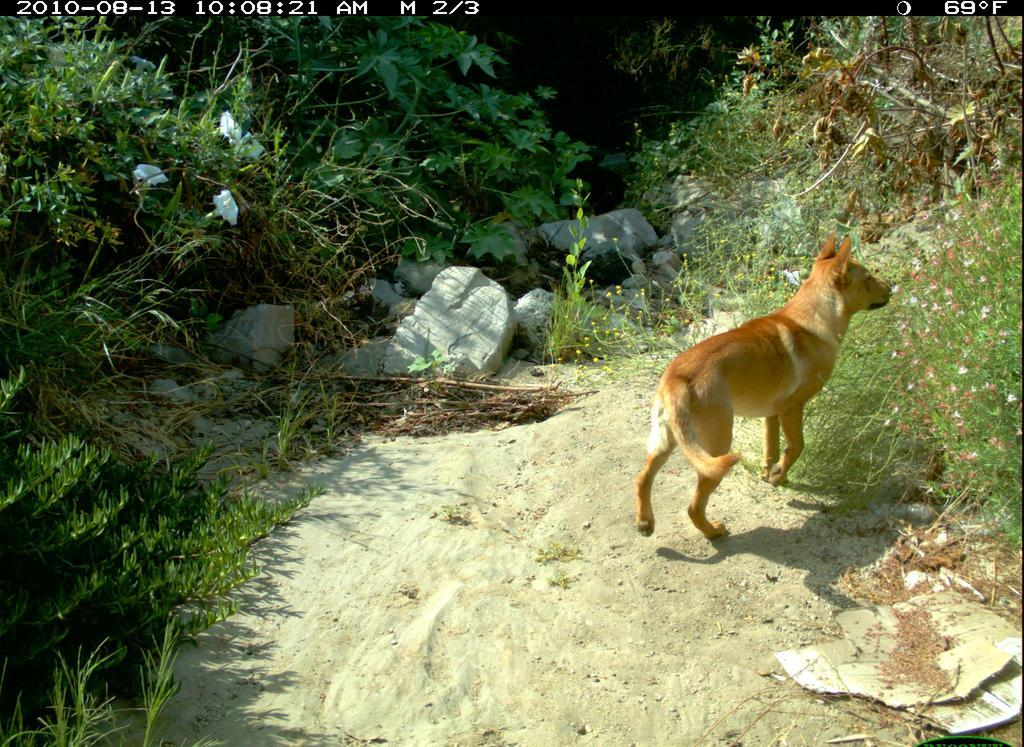dog: (623, 223, 905, 561)
